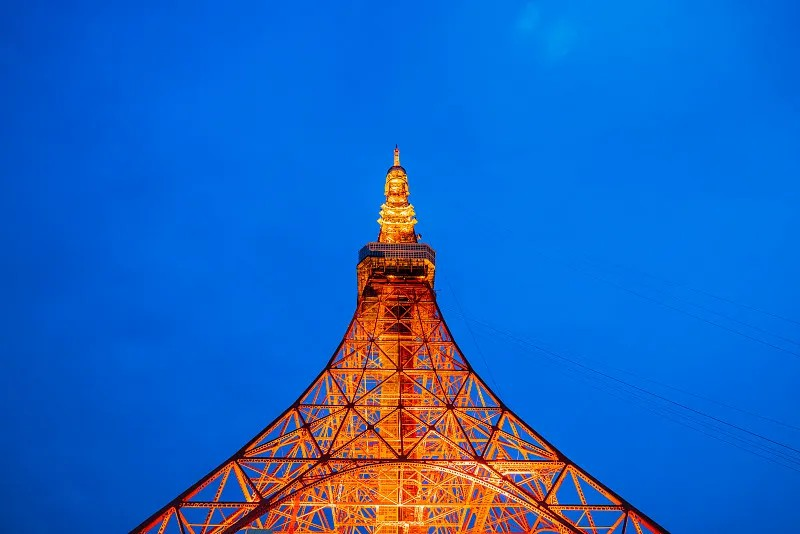Tokyo: (128, 139, 672, 534)
